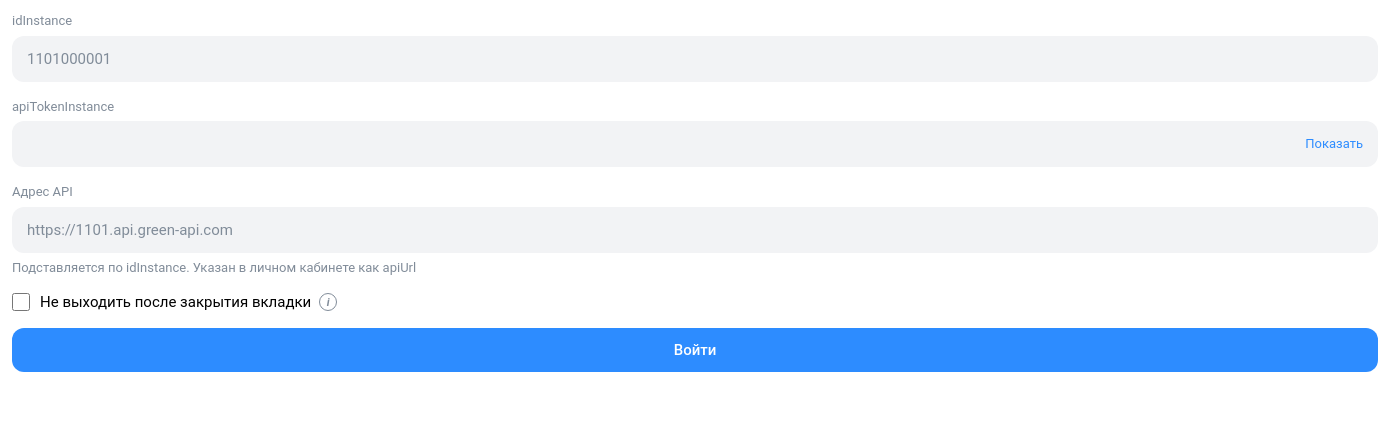
Test: LoginForm › clears a field error when the field changes
The width and height of the screenshot is (1390, 441).
Click the button "Войти" at (695, 350), box [12,328,1378,372]
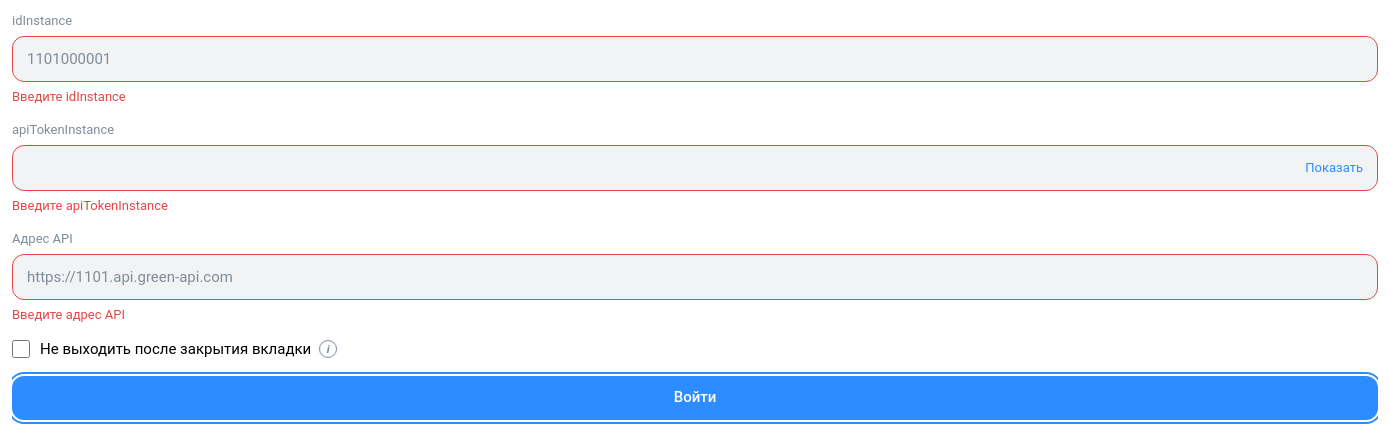
Type "1" into the field labelled "idInstance" at (695, 58), box [13,36,1377,80]
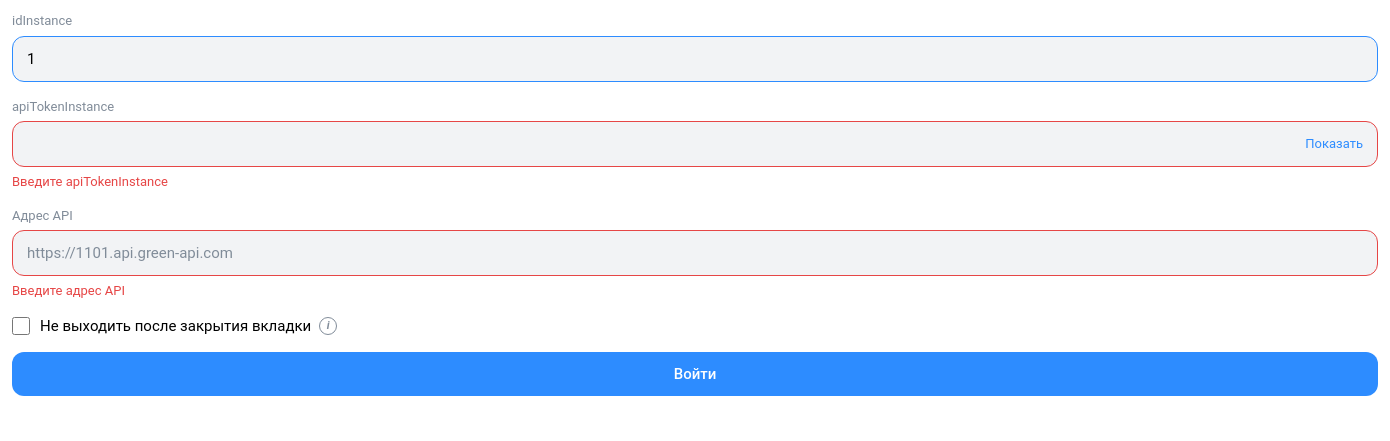
Now the text "Введите idInstance" is gone
